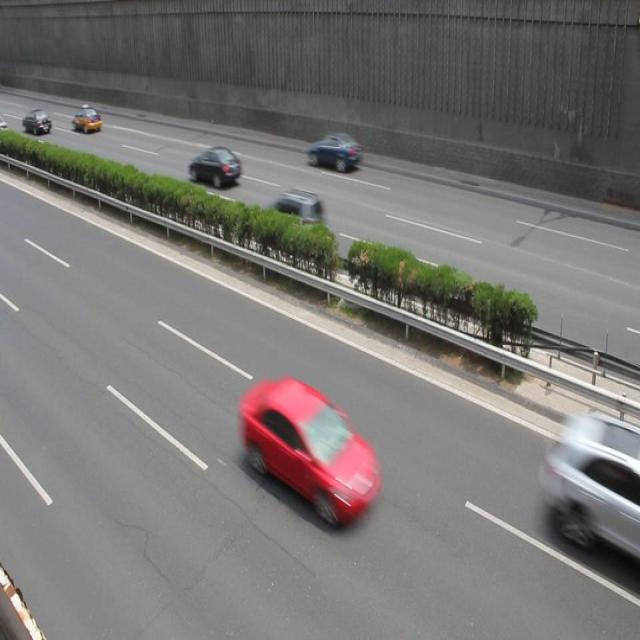car: (238, 372, 380, 526), (542, 412, 640, 560), (266, 186, 324, 251), (186, 146, 241, 190), (306, 131, 361, 172), (72, 103, 104, 134), (23, 109, 52, 136)
